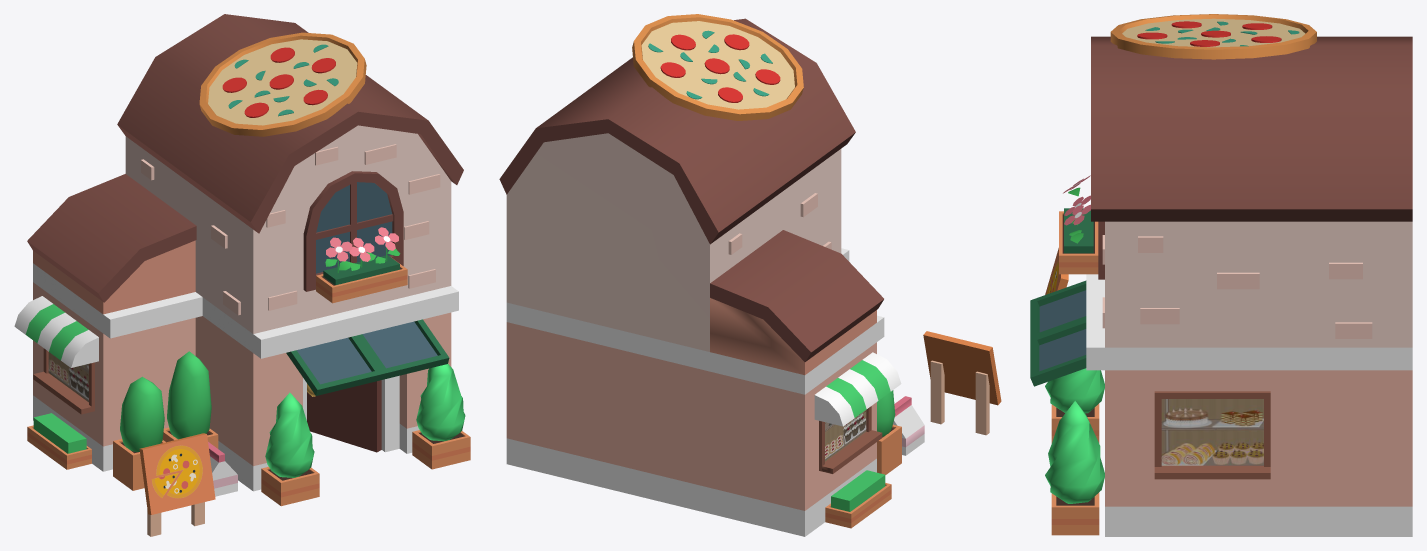
File: Pizza.FBX
3 views of the same model, side by side, from view 1: azimuth 30°, elevation 25°; view 2: azimuth 150°, elevation 25°; view 3: azimuth 270°, elevation 25° (orthographic). The views are drawn at different scales.
Visible parts, largest first — view 1: Pizza; view 2: Pizza; view 3: Pizza.
Boxes of the visible parts, x1,y1,x2,y2 form: Pizza: (14,14,470,536); Pizza: (499,14,1001,536); Pizza: (1030,14,1412,536).
Bounding box in the file's own units: 198 × 211 × 160.
